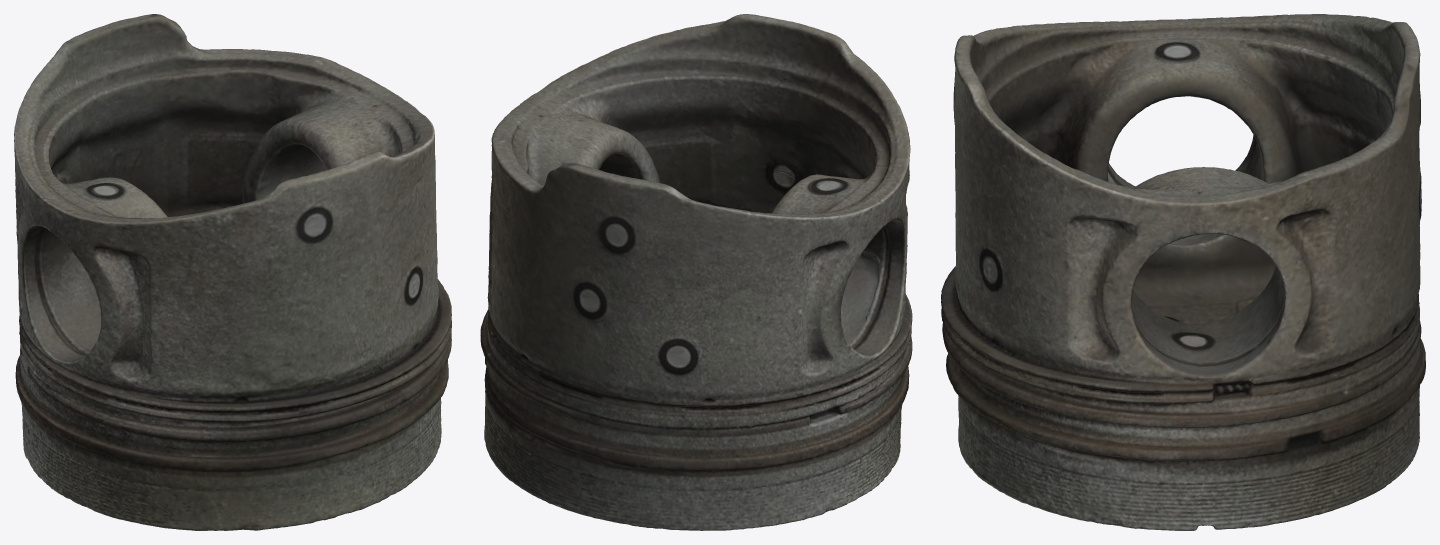
Rendered from engine-piston.glb.
3 renders of one model, left to right at view 1: azimuth 30°, elevation 25°; view 2: azimuth 150°, elevation 25°; view 3: azimuth 270°, elevation 25°, orthographic. The views are drawn at different scales.
Visible parts, largest first — view 1: material_0; view 2: material_0; view 3: material_0.
Part boxes in pixels (left/top/right/bottom): material_0: left=14, top=14, right=451, bottom=530; material_0: left=480, top=14, right=912, bottom=530; material_0: left=941, top=14, right=1425, bottom=530.
Bounding box in the file's own units: 113 × 101 × 113.
1 material, 1 textured.
